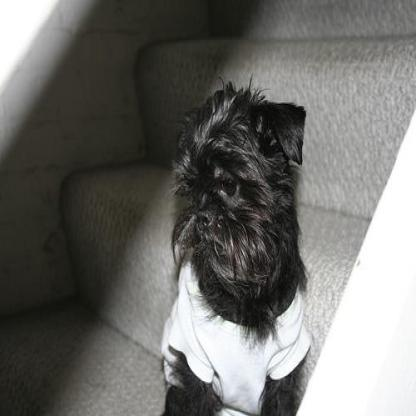affenpinscher: (156, 76, 308, 414)
